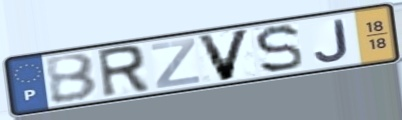B: (42, 51, 100, 106)
J: (312, 18, 352, 63)
R: (94, 43, 153, 100)
S: (252, 23, 306, 75)
V: (194, 26, 254, 83)
Z: (148, 37, 202, 91)
